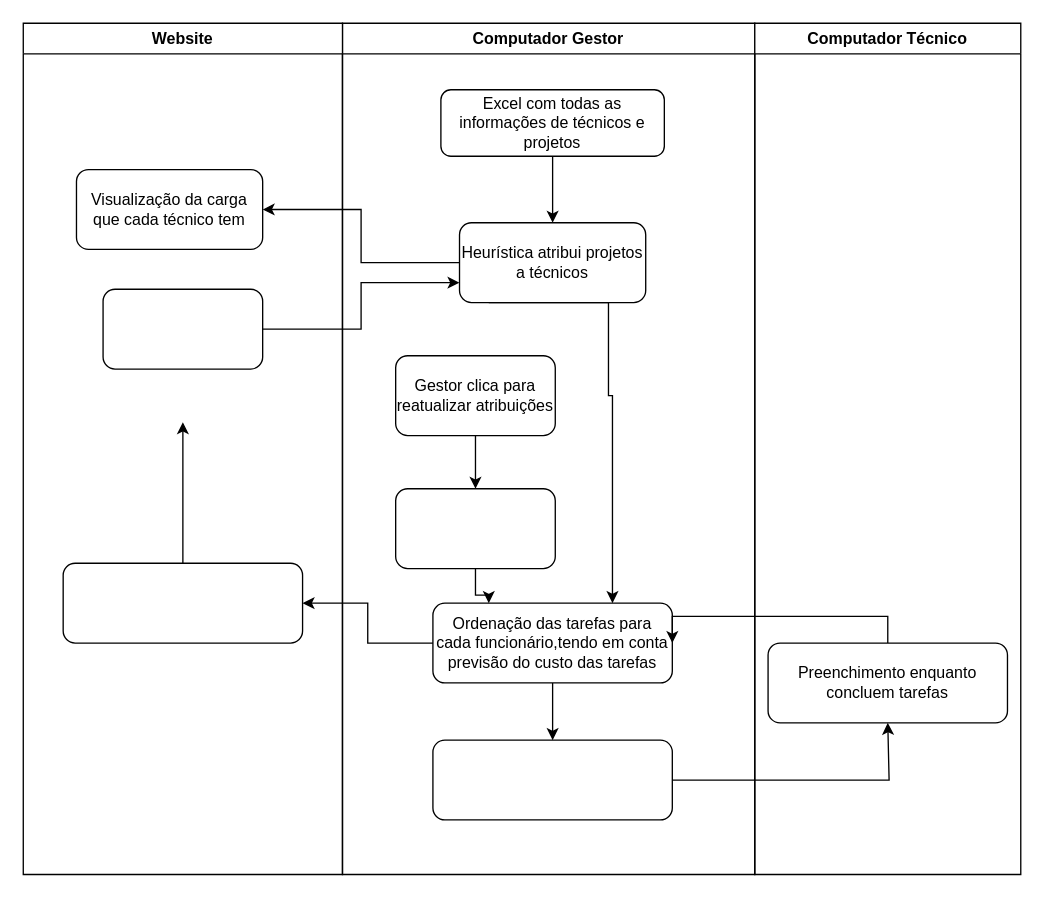
Some shapes in this 1044 by 898 pixel diagram are drawn without their labels. Here are the shapes that lost their labels. From the top down, the centre of each, then its label:
At pixel 182 328: "Alterar informações sobre disponibilidade de técnicos".
At pixel 474 528: "Leitura dos exceis dos técnicos, caso existam".
At pixel 182 602: "Visualização de calendário de realização de tarefas".
At pixel 552 779: "Geração dos Exceis para os técnicos, ou atualização".
